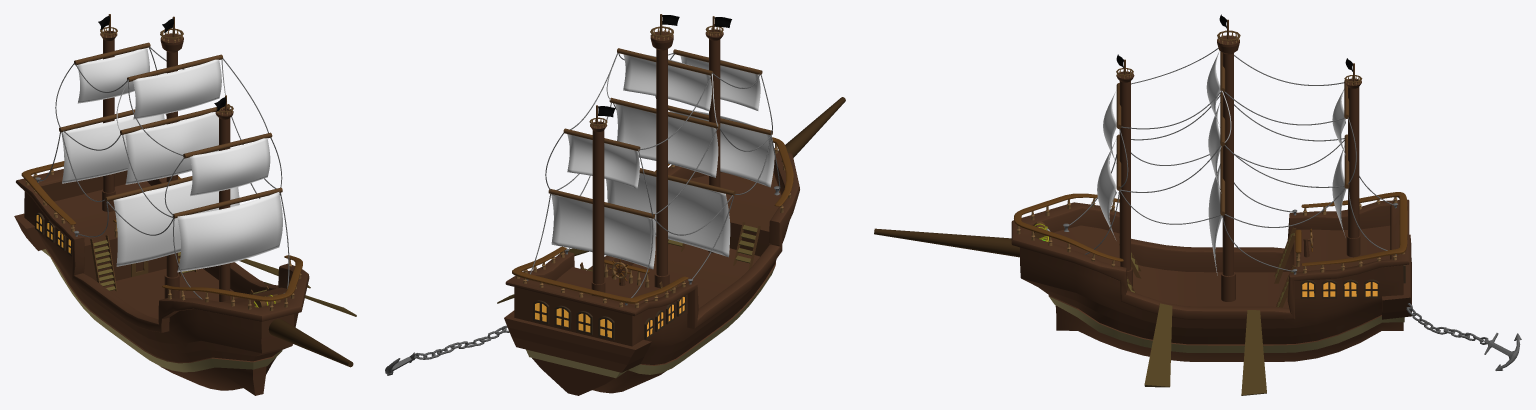
File: Barco edad media V3.fbx
The picture shows the model from 3 angles, left to right: view 1: azimuth 30°, elevation 25°; view 2: azimuth 150°, elevation 25°; view 3: azimuth 270°, elevation 25°; orthographic projection.
Visible parts, largest first — view 1: Cube.099, Cube.001, Cube.057, NurbsPath.012, Cube.007, Cube.004, Cube.003, Cube.018, Cube.062, Cube.088, Cube.148, Cube.040 (+2 smaller); view 2: Cube.001, Cube.099, Cube.057, Cube.007, Cube.062, Cube.148, NurbsPath.012, Cube.088, Cube.003, Cube.004, Cube.125, Cube.018 (+3 smaller); view 3: Cube.001, Cube.099, Cube.124, NurbsPath.012, Cube.007, Cube.003, Cube.062, Cube.004, Cube.057, Cube.088, Cube.148, Cube.018 (+1 smaller).
Boxes of the visible parts, x1,y1,x2,y2 form: Cube.099: [61, 48, 282, 272]; Cube.001: [14, 169, 309, 395]; Cube.057: [59, 42, 282, 218]; NurbsPath.012: [38, 47, 289, 299]; Cube.007: [160, 33, 183, 298]; Cube.004: [268, 319, 353, 367]; Cube.003: [215, 108, 233, 301]; Cube.018: [162, 255, 302, 301]; Cube.062: [100, 30, 117, 211]; Cube.088: [21, 161, 180, 224]; Cube.148: [35, 212, 72, 256]; Cube.040: [93, 240, 115, 290]; Cube.001: [504, 150, 799, 395]; Cube.099: [551, 54, 774, 269]; Cube.057: [548, 48, 772, 218]; Cube.007: [650, 31, 673, 287]; Cube.062: [590, 121, 607, 297]; Cube.148: [533, 295, 686, 340]; NurbsPath.012: [530, 52, 780, 297]; Cube.088: [512, 246, 688, 303]; Cube.003: [705, 29, 723, 253]; Cube.004: [785, 97, 845, 157]; Cube.125: [415, 325, 509, 359]; Cube.018: [655, 137, 793, 206]; Cube.001: [1011, 199, 1411, 361]; Cube.099: [1097, 51, 1346, 275]; Cube.124: [1144, 303, 1266, 395]; NurbsPath.012: [1069, 48, 1393, 271]; Cube.007: [1217, 35, 1239, 301]; Cube.003: [1116, 71, 1134, 286]; Cube.062: [1345, 78, 1361, 257]; Cube.004: [874, 228, 1019, 257]; Cube.057: [1116, 51, 1349, 215]; Cube.088: [1301, 192, 1407, 266]; Cube.148: [1300, 265, 1405, 298]; Cube.018: [1014, 193, 1123, 261].
Bounding box in the file's own units: 3170 × 4873 × 8412.
